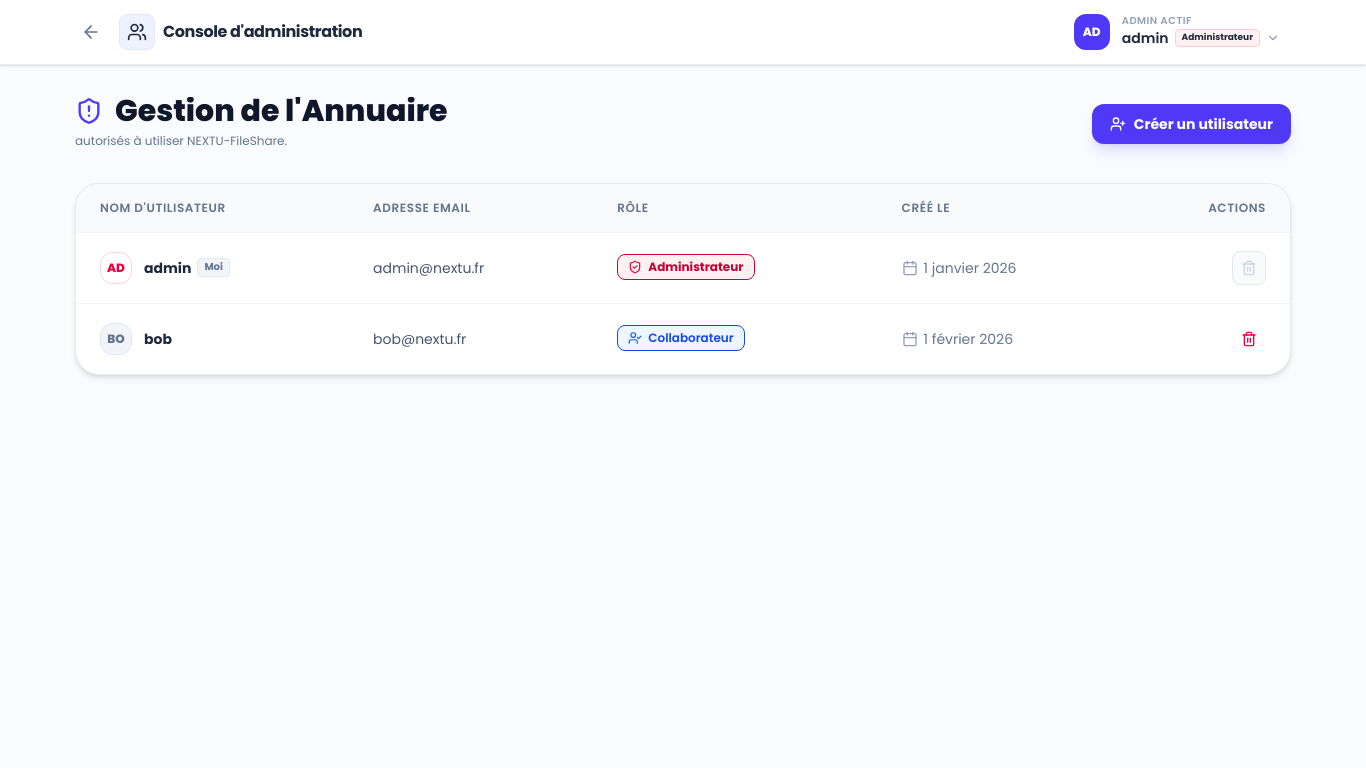
Test: AdminUsers › creates a new user successfully
The width and height of the screenshot is (1366, 768).
Check: the text "bob" is shown, box [144,328,172,348]
Click the button "Créer un utilisateur" at (1191, 124), box [1092,104,1291,144]
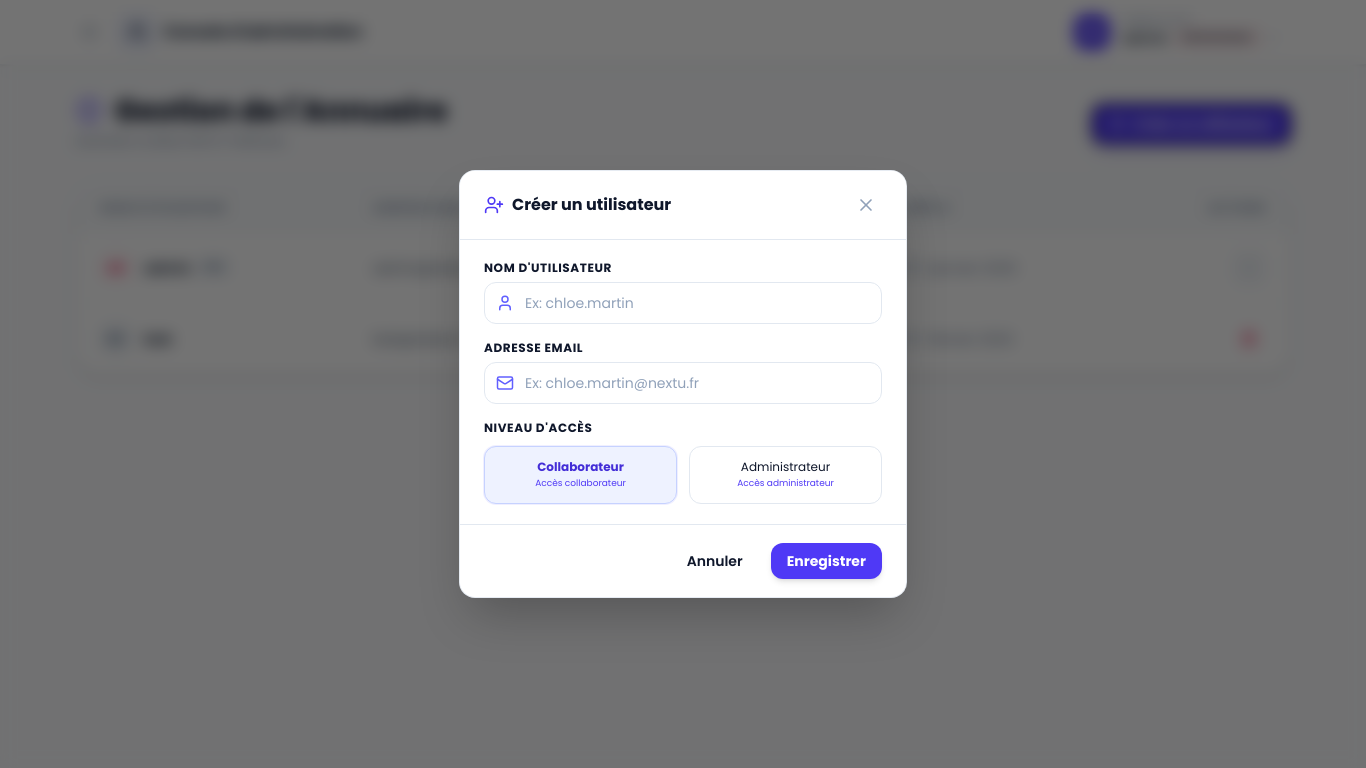
Check: the field with placeholder "Ex: chloe.martin" is shown
Type "chloe" into the field with placeholder "Ex: chloe.martin" at (683, 303), box [484,282,882,324]
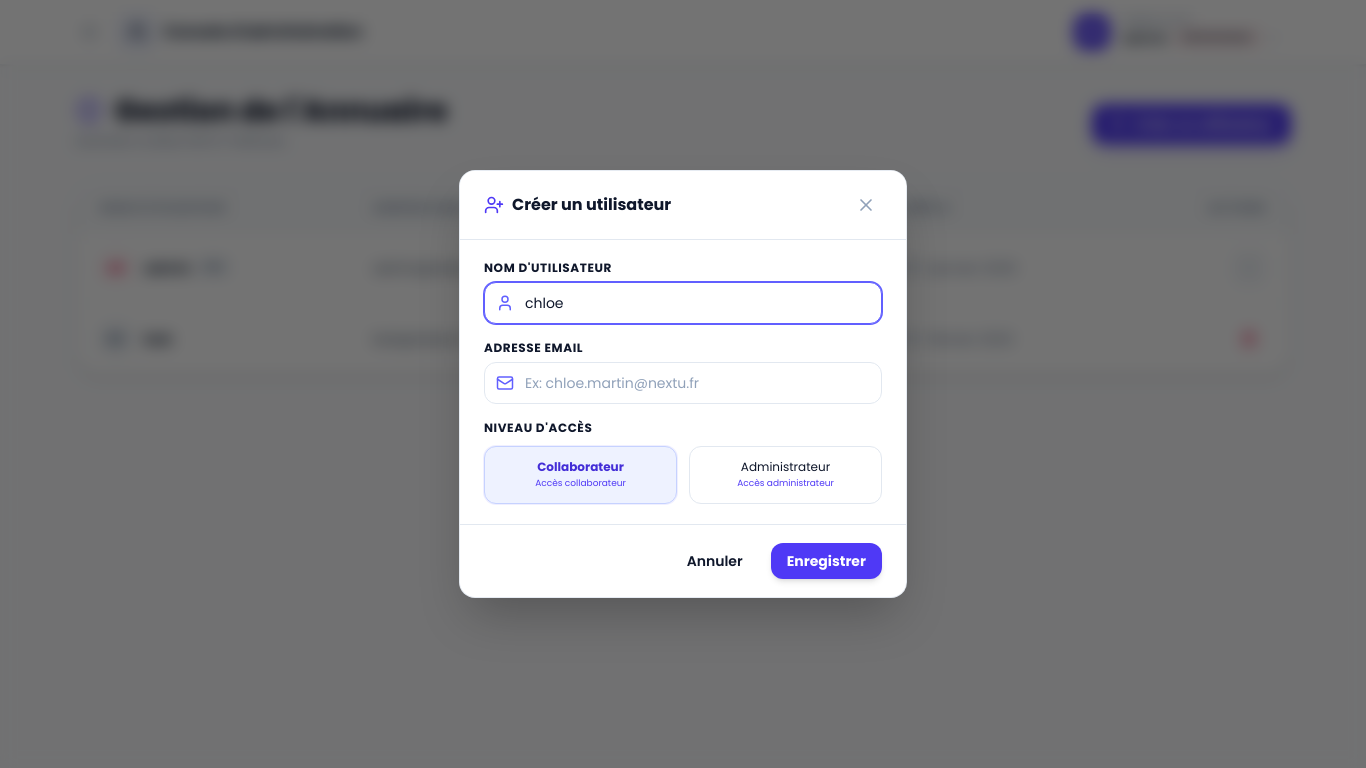
Type "chloe@nextu.fr" into the field with placeholder "Ex: chloe.martin@nextu.fr" at (683, 383), box [484,362,882,404]
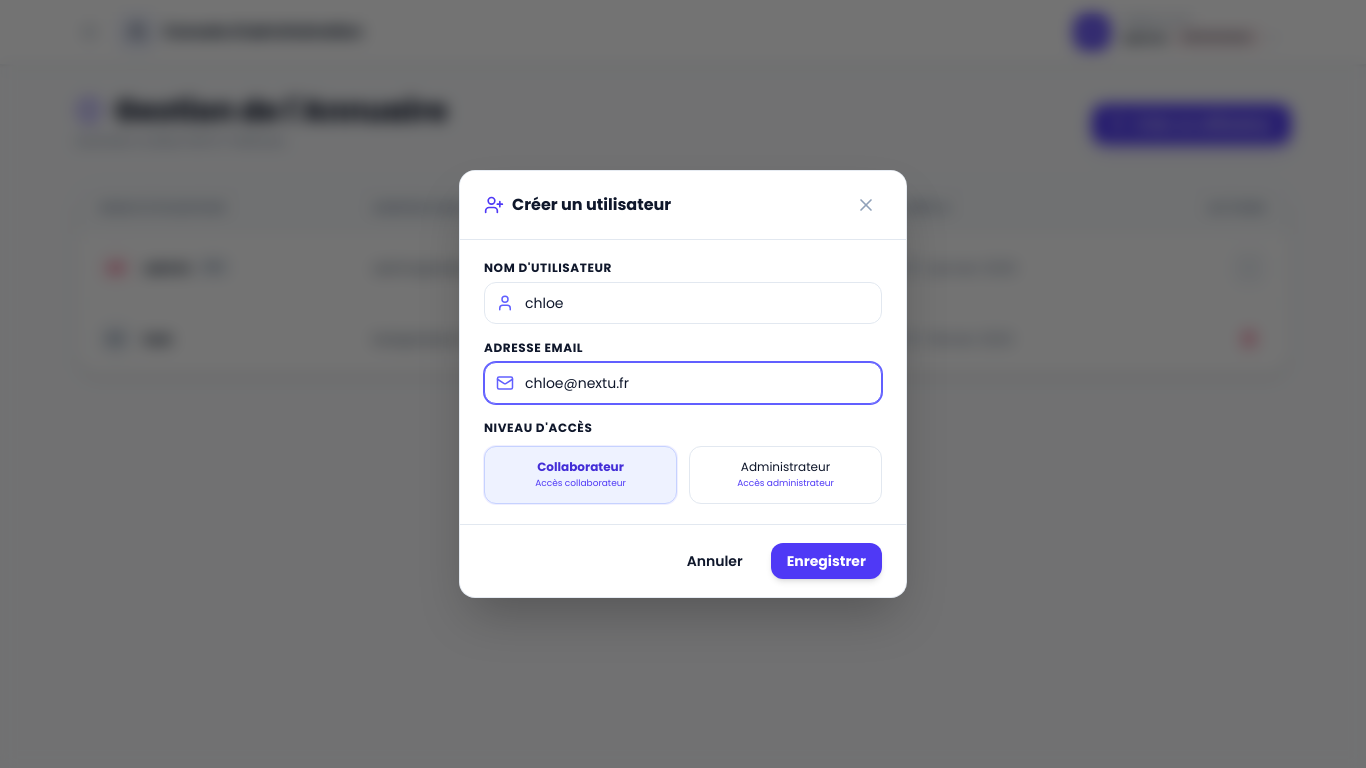
Click the button "Enregistrer" at (826, 561), box [771,543,882,579]
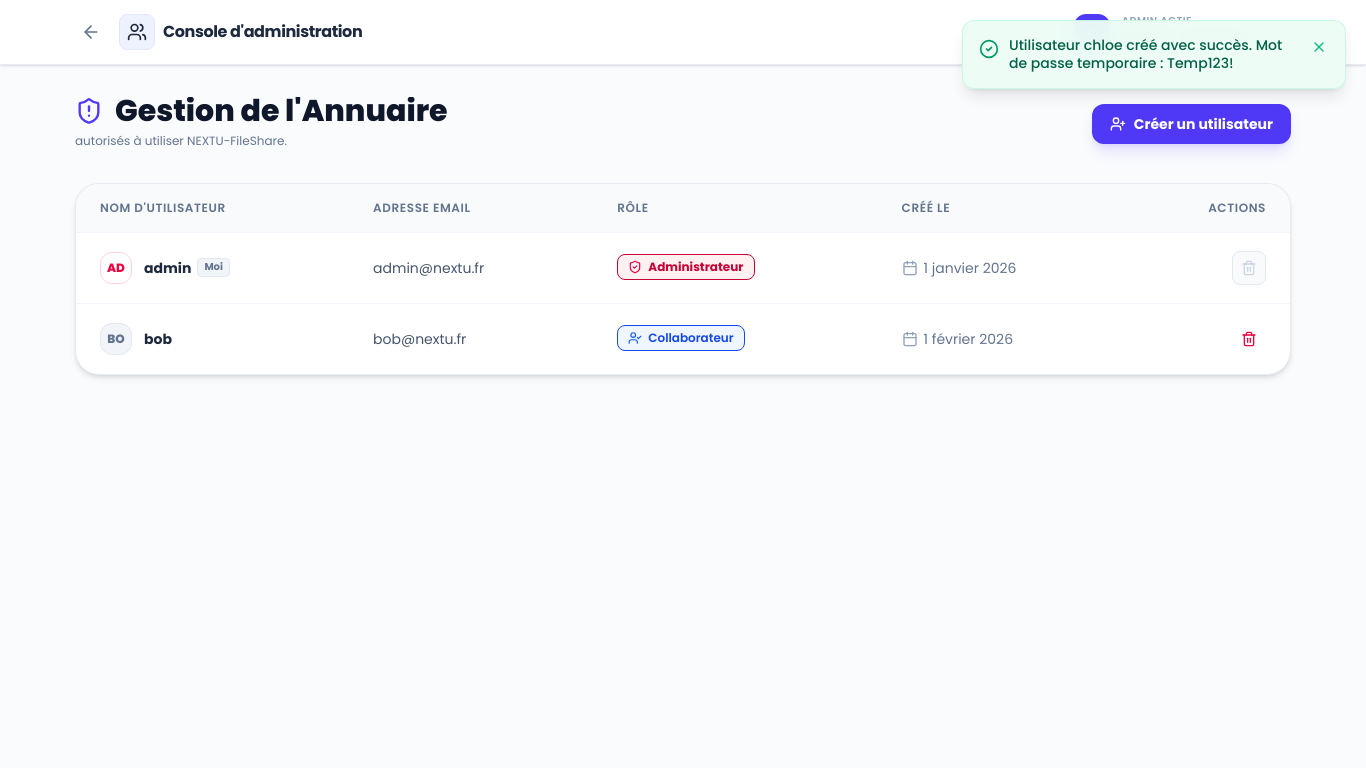
Check: the text "chloe créé avec succès" is shown, box [1009,35,1282,72]
